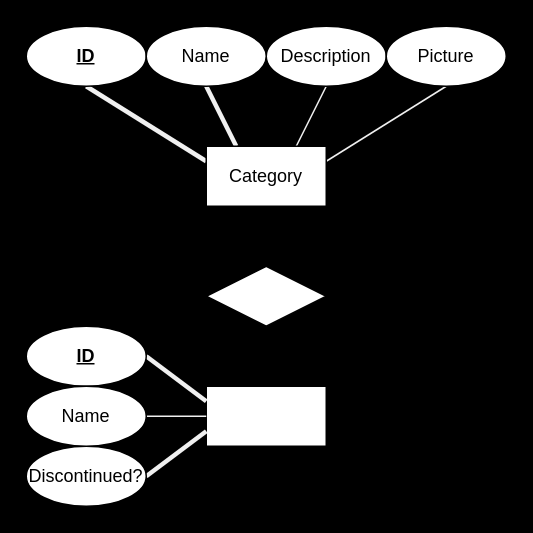
This 533x533 diagram has some shape labels left out. Here are the shapes that lost their labels. From the top down, the box of each, then its label:
(205, 265, 326, 326): Belongs To
(205, 385, 326, 446): Product
